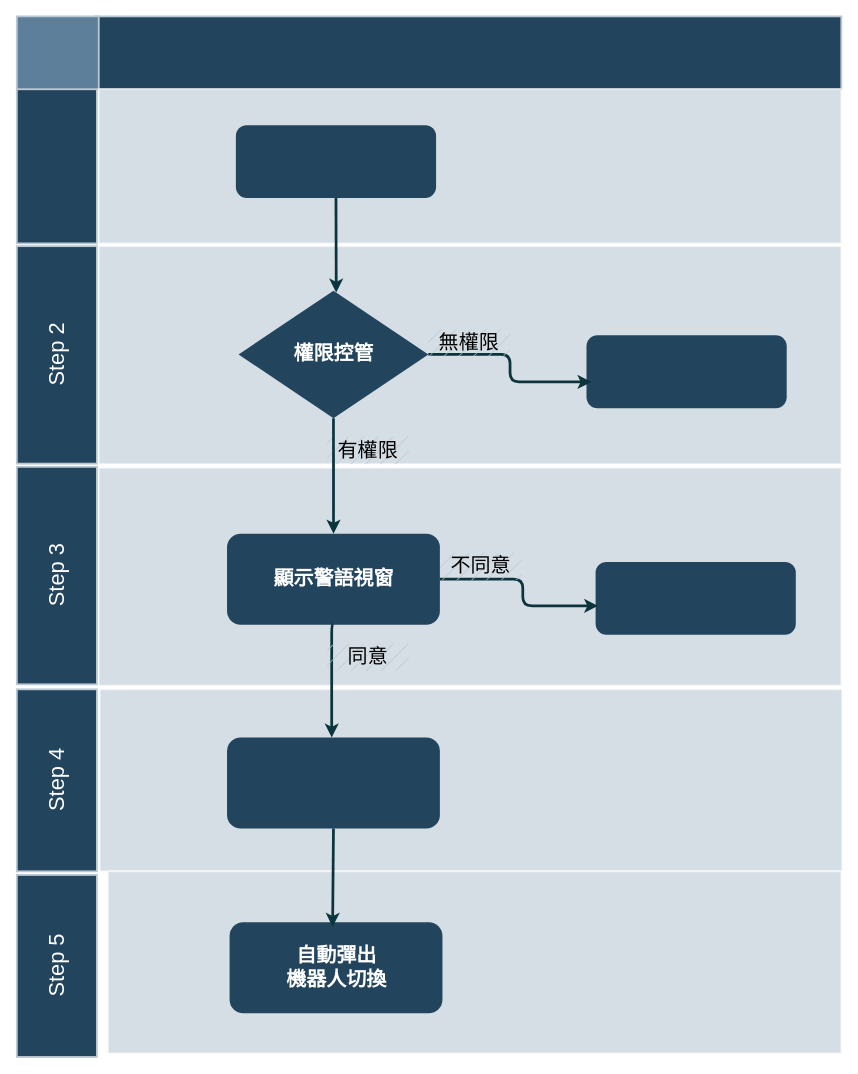
Some shapes in this 858 by 1074 pixel diagram are drawn without their labels. Each missing label, with the centre of its shape:
"HRChatbot" belongs at point (468, 52).
"Step 1" belongs at point (56, 166).
"UI 進入" belongs at point (335, 161).
"無法進入 Chatbot" belongs at point (695, 597).
"顯示 Chatbot" belongs at point (333, 782).
"顯示你未有權限" belongs at point (686, 371).
